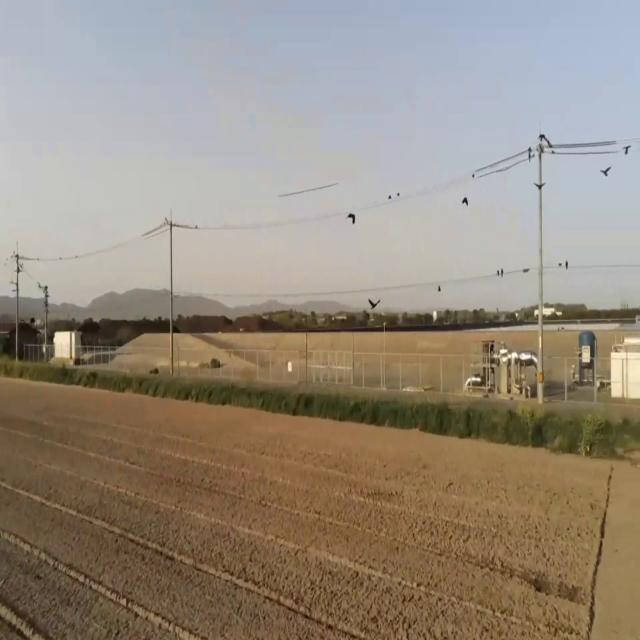bird: (368, 290, 380, 314), (600, 160, 612, 182), (347, 206, 356, 228), (461, 190, 469, 210), (624, 139, 632, 159), (38, 276, 45, 296), (500, 265, 503, 279)
